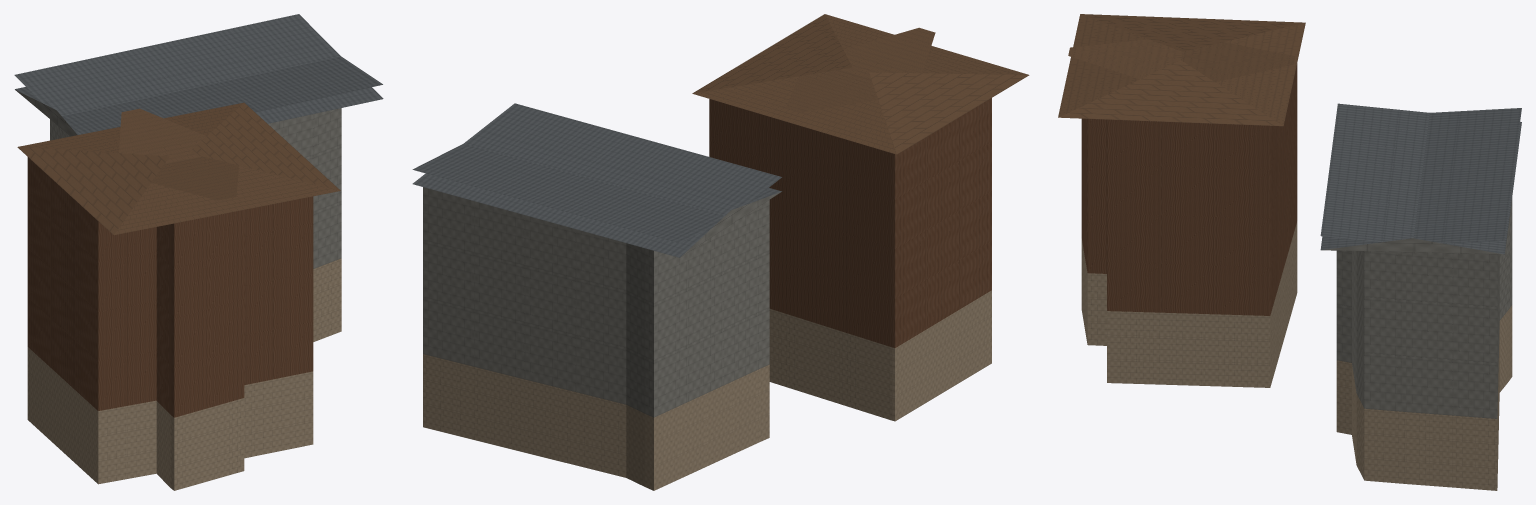
Rendered from bld_c-19_18_518.gltf.
3 views of the same model, side by side, from view 1: azimuth 30°, elevation 25°; view 2: azimuth 150°, elevation 25°; view 3: azimuth 270°, elevation 25° (orthographic).
Visible parts, largest first — view 1: bld_c-19_18_518; view 2: bld_c-19_18_518; view 3: bld_c-19_18_518.
Part boxes in pixels (x1,y1,x2,y2): bld_c-19_18_518: (14,14,383,490); bld_c-19_18_518: (412,14,1029,490); bld_c-19_18_518: (1058,14,1521,490).
Size of the model in its own units: 29.26 by 21.4 by 29.8.
Materials: 6 (6 with a texture image).
